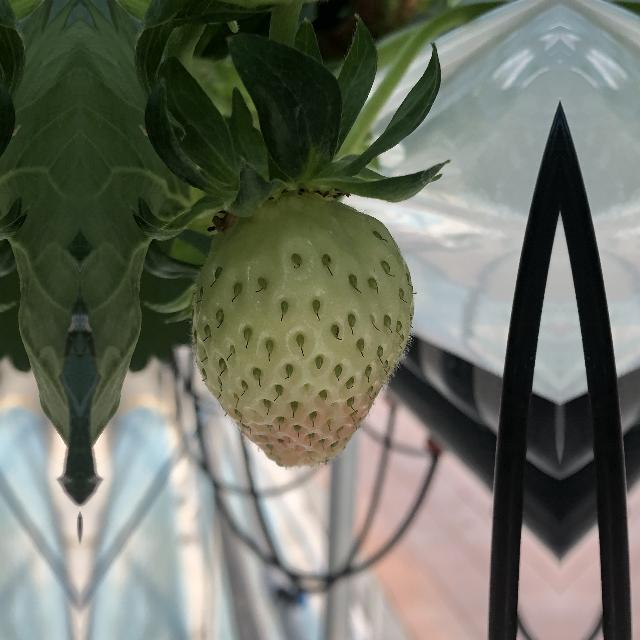Health_50: (179, 185, 417, 471)
